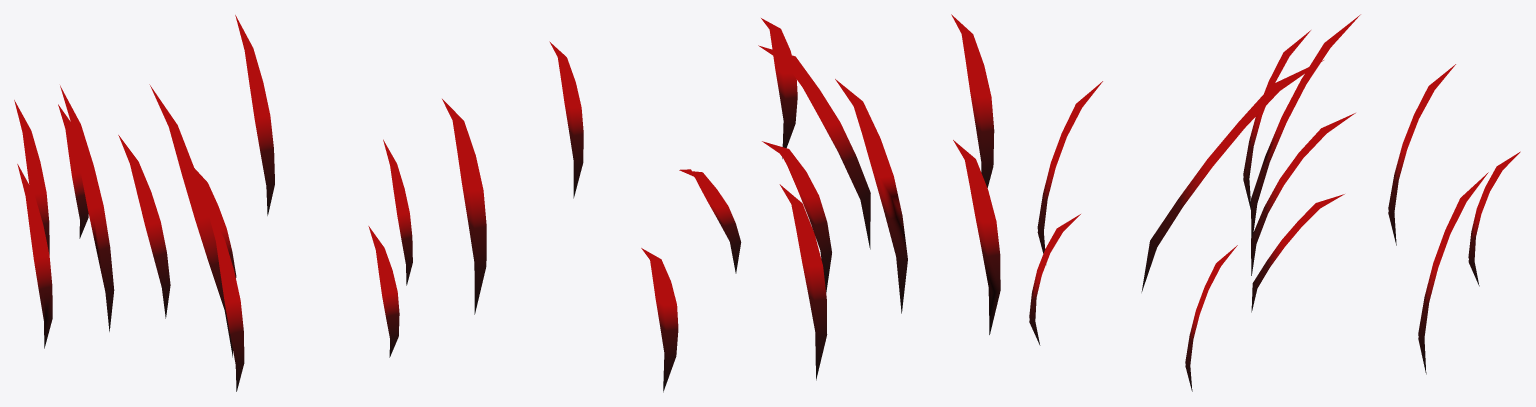
The model's file is Grass.fbx.
3 views of the same model, side by side, from view 1: azimuth 30°, elevation 25°; view 2: azimuth 150°, elevation 25°; view 3: azimuth 270°, elevation 25° (orthographic). The views are drawn at different scales.
Parts seen in each view (by area): view 1: Grass; view 2: Grass; view 3: Grass.
Part boxes in pixels (left/top/right/bottom): Grass: left=14, top=15, right=412, bottom=391; Grass: left=442, top=14, right=1000, bottom=392; Grass: left=1029, top=14, right=1520, bottom=391.
Bounding box in the file's own units: 2.52 × 1.51 × 2.8.
